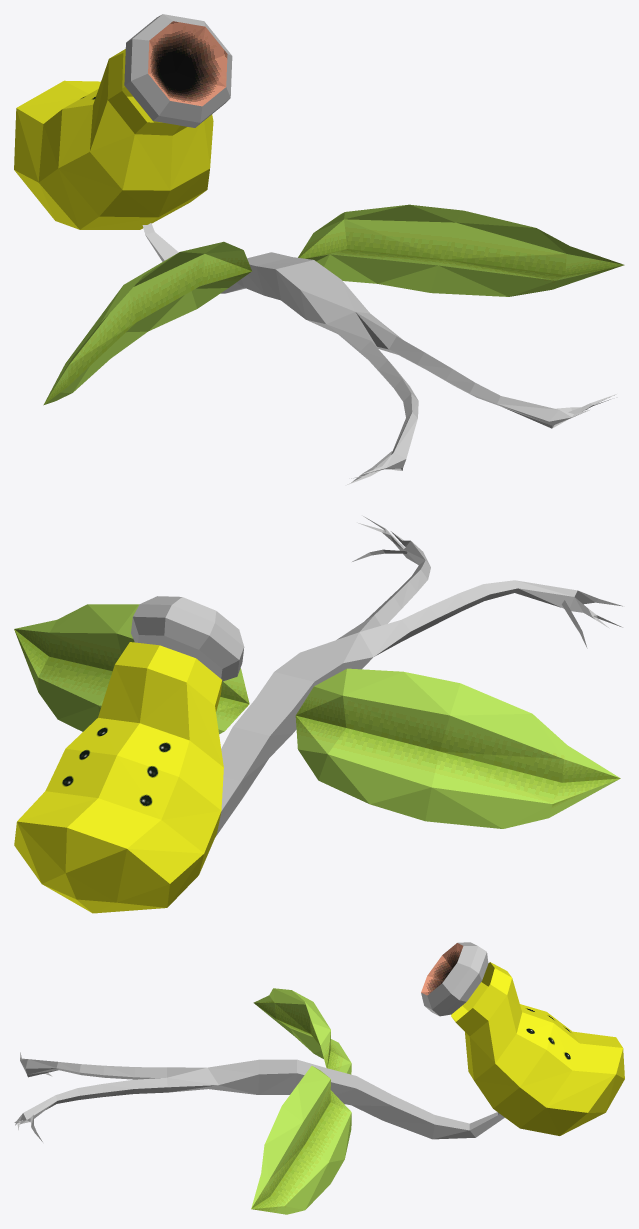
Rendered from BR_Bellsprout.obj.
3 views of the same model, one above another, from view 1: azimuth 30°, elevation 25°; view 2: azimuth 150°, elevation 25°; view 3: azimuth 270°, elevation 25° (orthographic). The views are drawn at different scales.
Parts seen in each view (by area): view 1: madatsubomi; view 2: madatsubomi; view 3: madatsubomi.
Part boxes in pixels (x1,y1,x2,y2): madatsubomi: (14, 14, 624, 485); madatsubomi: (14, 516, 622, 913); madatsubomi: (14, 942, 624, 1214).
Bounding box in the file's own units: 5.22 × 2.22 × 6.53.
